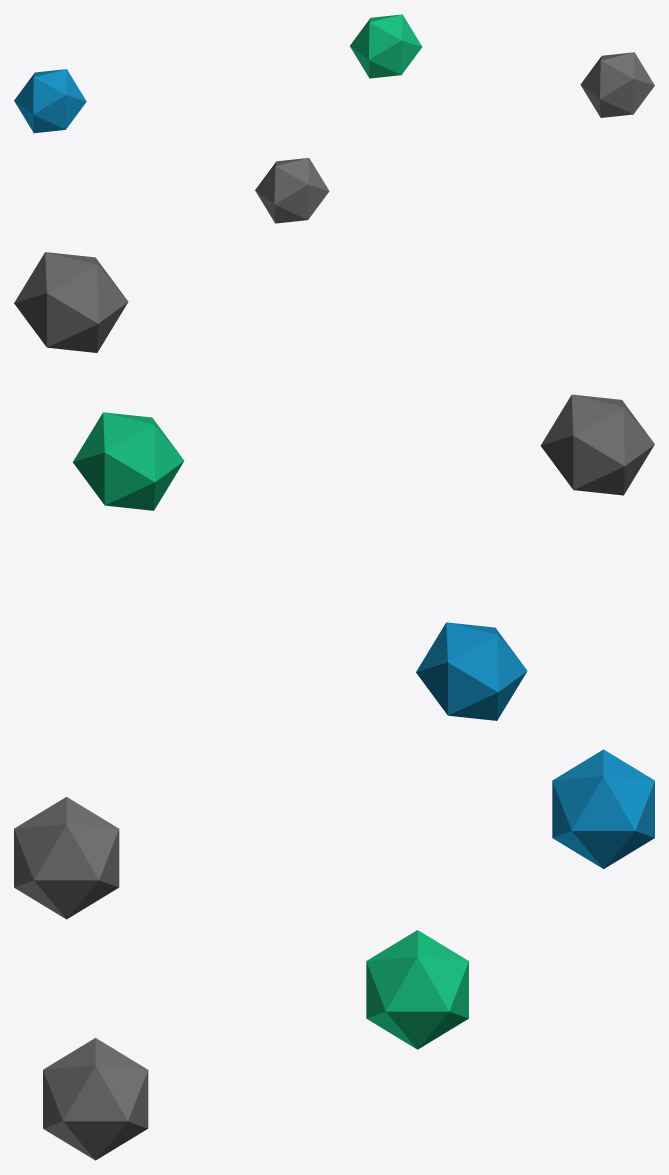
3 views of the same model, one above another, from view 1: azimuth 30°, elevation 25°; view 2: azimuth 150°, elevation 25°; view 3: azimuth 270°, elevation 25° (orthographic). The views are drawn at different scales.
Parts seen in each view (by area): view 1: 09_05_00; view 2: 09_05_00; view 3: 09_05_00.
Part boxes in pixels (x1,y1,x2,y2): 09_05_00: [14, 14, 654, 223]; 09_05_00: [14, 252, 654, 720]; 09_05_00: [14, 749, 654, 1160].
Bounding box in the file's own units: 0.4738 × 0.0812 × 0.3387.
